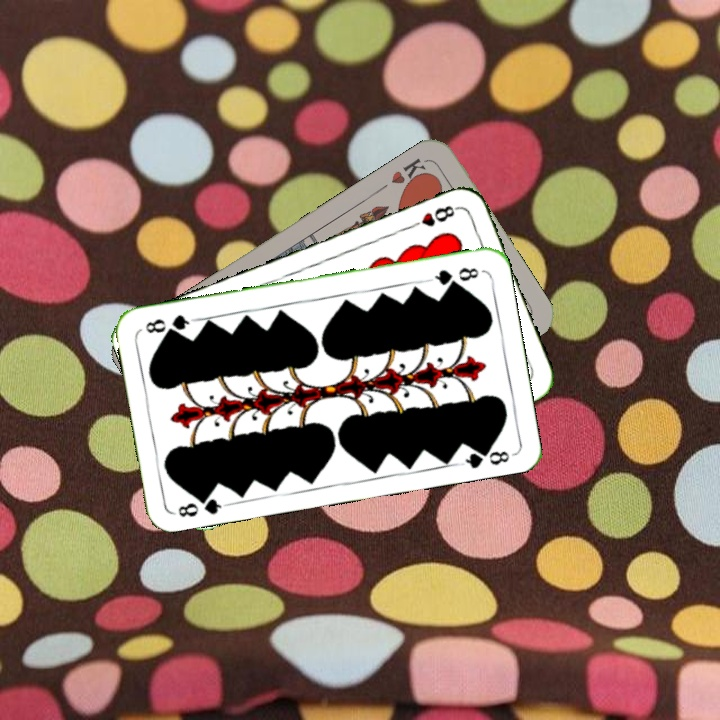G8: (171, 489, 230, 520), (425, 263, 482, 288)
H8: (404, 201, 461, 232)
HK: (387, 154, 432, 193)
